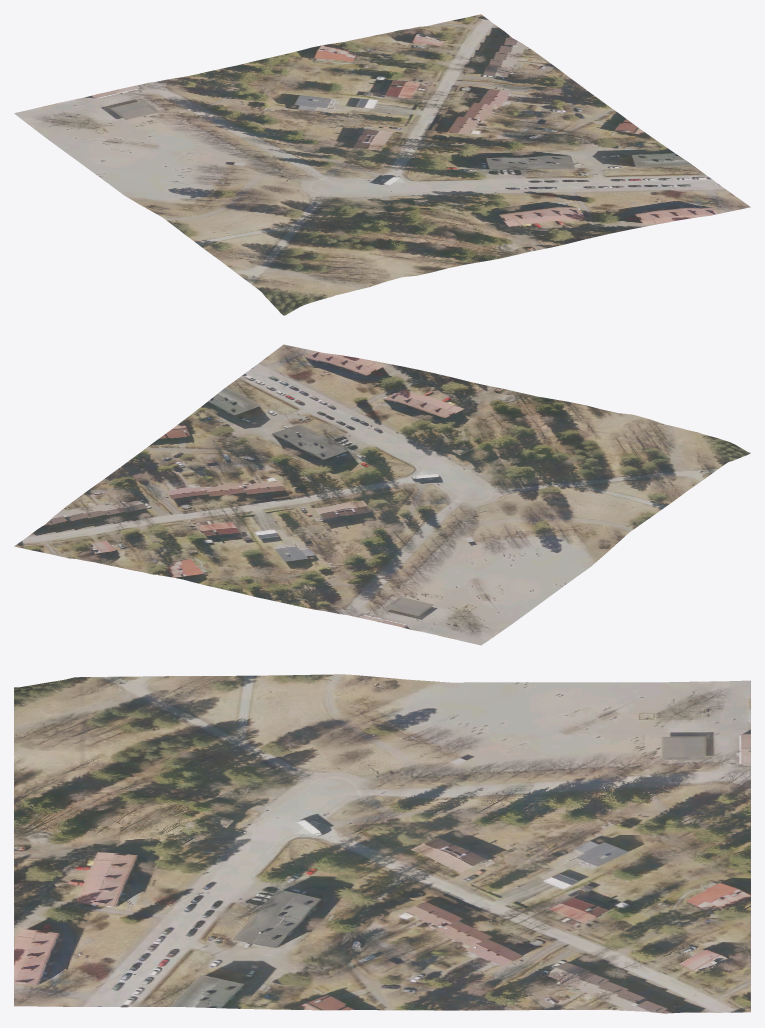
File: CM_Terrain_24489844_6821227.fbx
3 views of the same model, one above another, from view 1: azimuth 30°, elevation 25°; view 2: azimuth 150°, elevation 25°; view 3: azimuth 270°, elevation 25° (orthographic). The views are drawn at different scales.
Parts seen in each view (by area): view 1: CM_Terrain_24489844_6821227_LOD0; view 2: CM_Terrain_24489844_6821227_LOD0; view 3: CM_Terrain_24489844_6821227_LOD0.
Part boxes in pixels (x1,y1,x2,y2): CM_Terrain_24489844_6821227_LOD0: (14, 14, 750, 315); CM_Terrain_24489844_6821227_LOD0: (14, 344, 750, 645); CM_Terrain_24489844_6821227_LOD0: (14, 674, 750, 1013).
Size of what is drawn, in the model's own units: 205 by 9.13 by 205.
